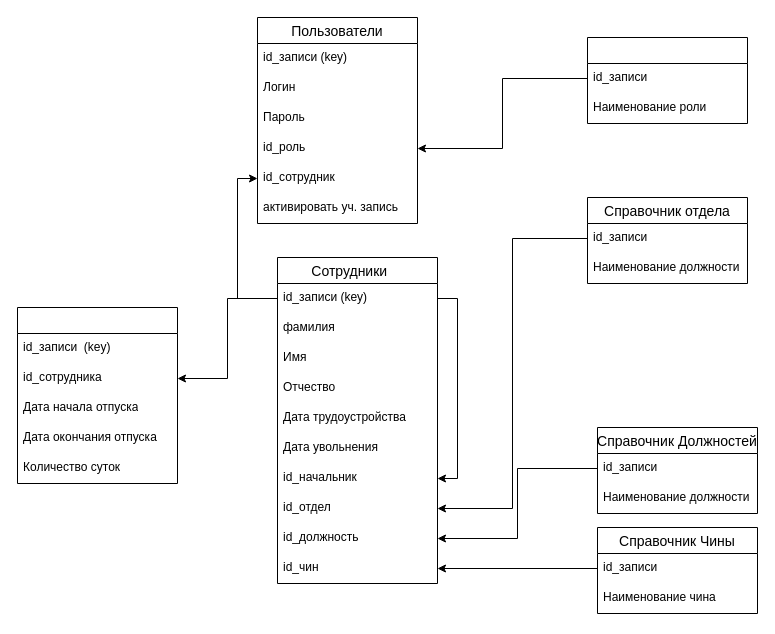
The diagram is 775 pixels wide and 634 high, and some of its shapes have lost their labels. Each missing label, with the box of its shape:
Отпуска сотрудников: (16, 306, 178, 484)
Справочник роль: (586, 36, 748, 124)
